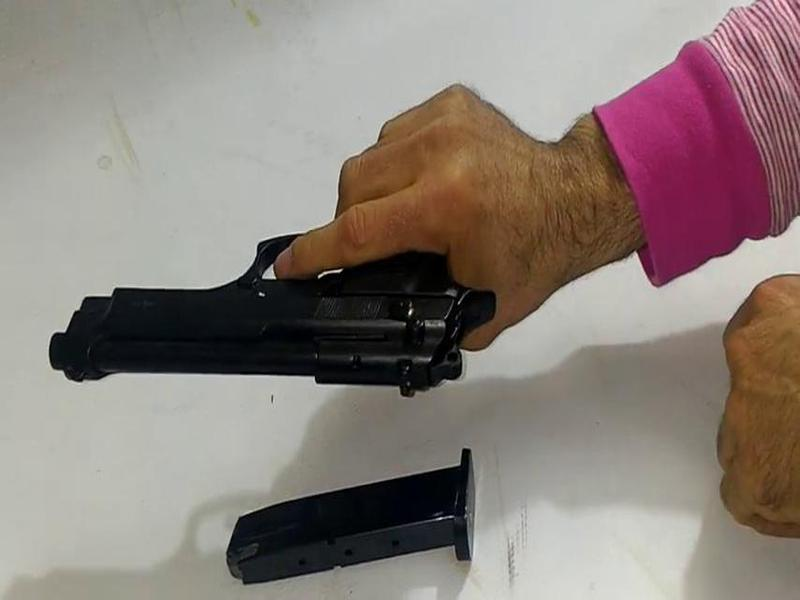Pistola: (38, 175, 512, 405)
